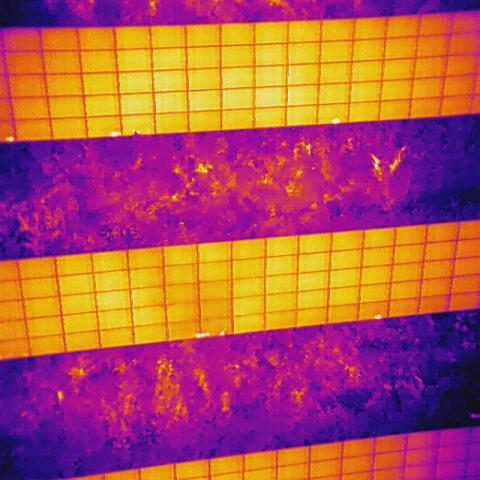fault: (195, 331, 211, 339), (108, 130, 123, 138), (4, 134, 15, 144), (374, 312, 383, 320), (332, 117, 340, 125), (219, 330, 225, 336)
